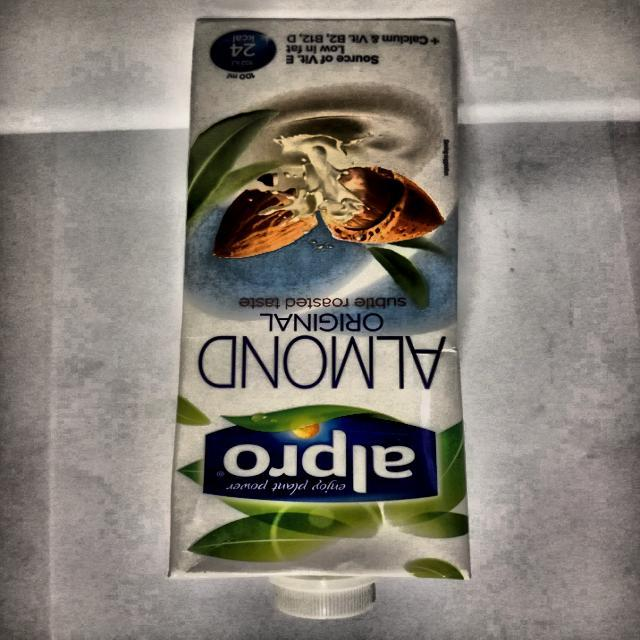cardboard: (169, 19, 472, 584)
